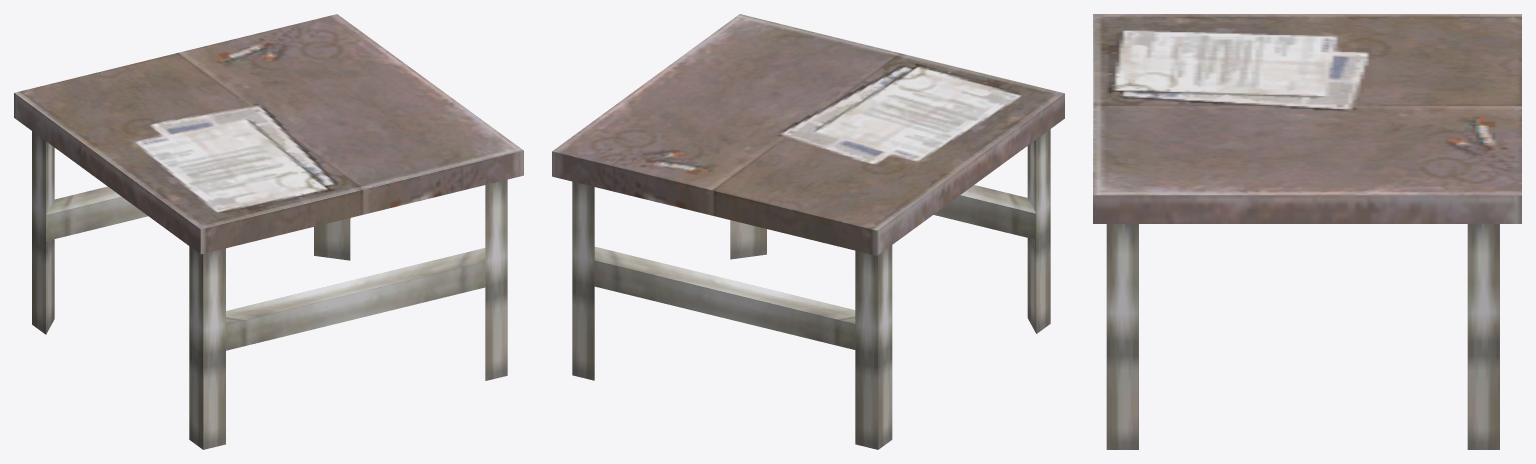
Rendered from TableDirty.glb.
The picture shows the model from 3 angles, left to right: view 1: azimuth 30°, elevation 25°; view 2: azimuth 150°, elevation 25°; view 3: azimuth 270°, elevation 25°; orthographic projection. The views are drawn at different scales.
Visible parts, largest first — view 1: TABLEDIRTY; view 2: TABLEDIRTY; view 3: TABLEDIRTY.
Boxes of the visible parts, left/top/right/bottom form: TABLEDIRTY: left=14, top=14, right=523, bottom=449; TABLEDIRTY: left=552, top=14, right=1064, bottom=449; TABLEDIRTY: left=1093, top=14, right=1521, bottom=449.
Size of the model in its own units: 0.769 by 0.516 by 0.769.
1 material, 1 textured.
